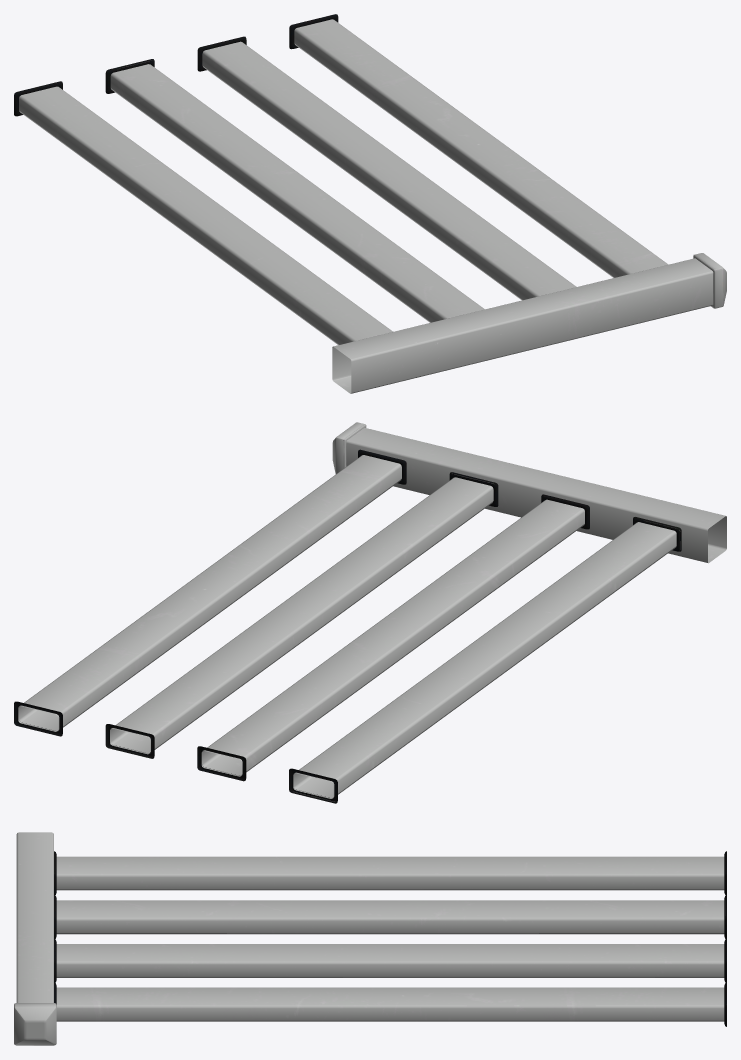
The model's file is cP_Fence01.dae.
3 renders of one model, top to bottom at view 1: azimuth 30°, elevation 25°; view 2: azimuth 150°, elevation 25°; view 3: azimuth 270°, elevation 25°, orthographic. The views are drawn at different scales.
Visible parts, largest first — view 1: cP_Fence01.001; view 2: cP_Fence01.001; view 3: cP_Fence01.001.
Boxes of the visible parts, x1,y1,x2,y2 form: cP_Fence01.001: [14, 14, 726, 393]; cP_Fence01.001: [14, 422, 726, 803]; cP_Fence01.001: [14, 832, 726, 1045].
Bounding box in the file's own units: 1.81 × 3.01 × 0.1801.
